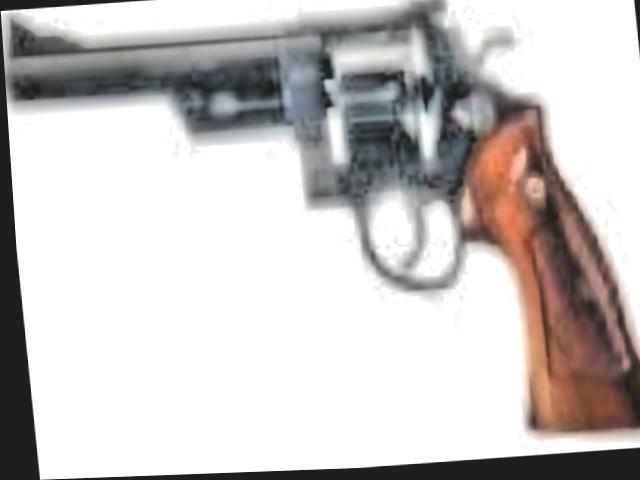pistol: (0, 0, 640, 463)
